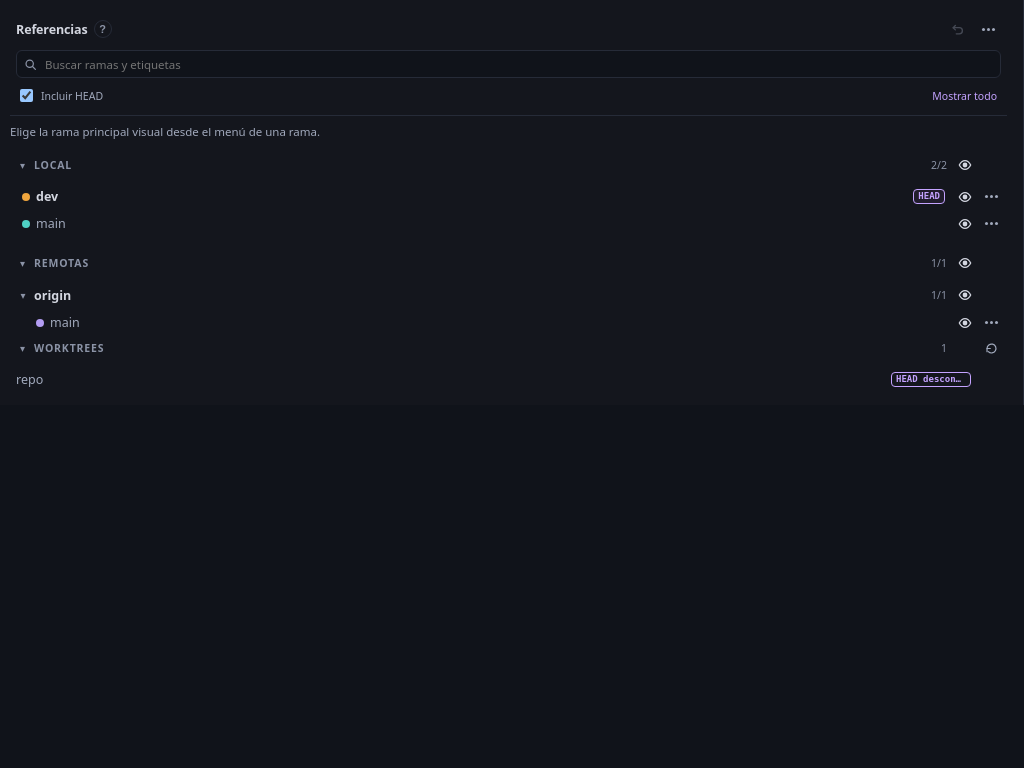
it: restores the action button's focus when the palette closes with Escape
Click the button named "Acciones de main" at (991, 224), box top-left (979, 212), bottom-right (1003, 236)
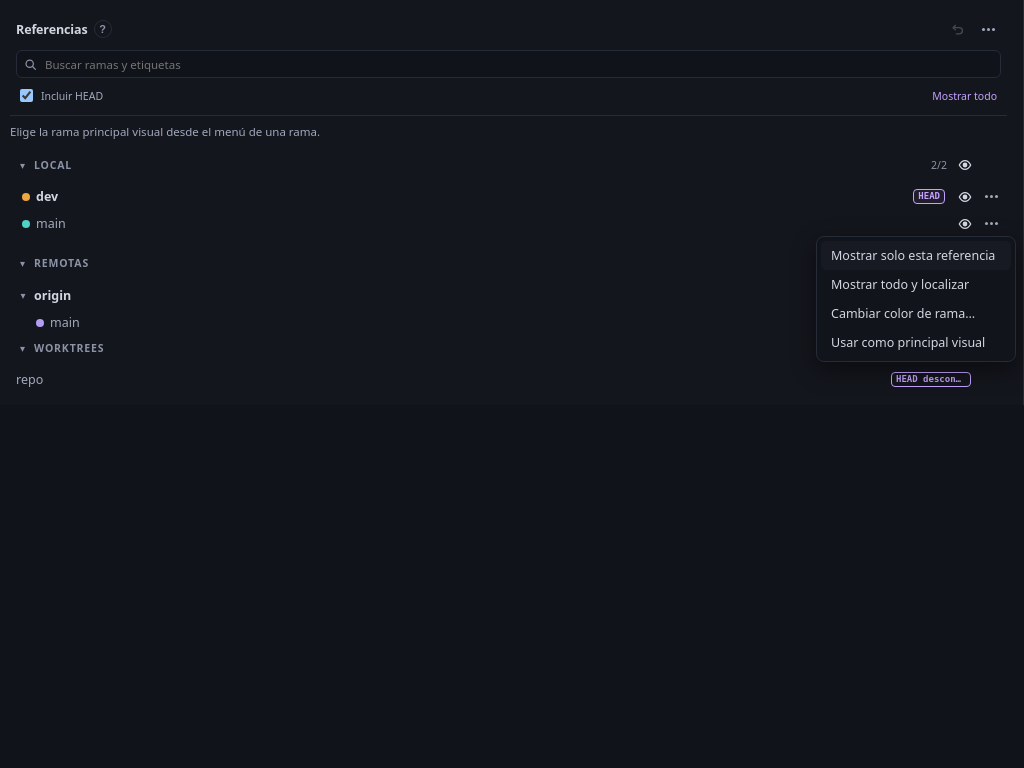
Click the menu item "Cambiar color de rama…" at (916, 313), box top-left (821, 298), bottom-right (1011, 328)
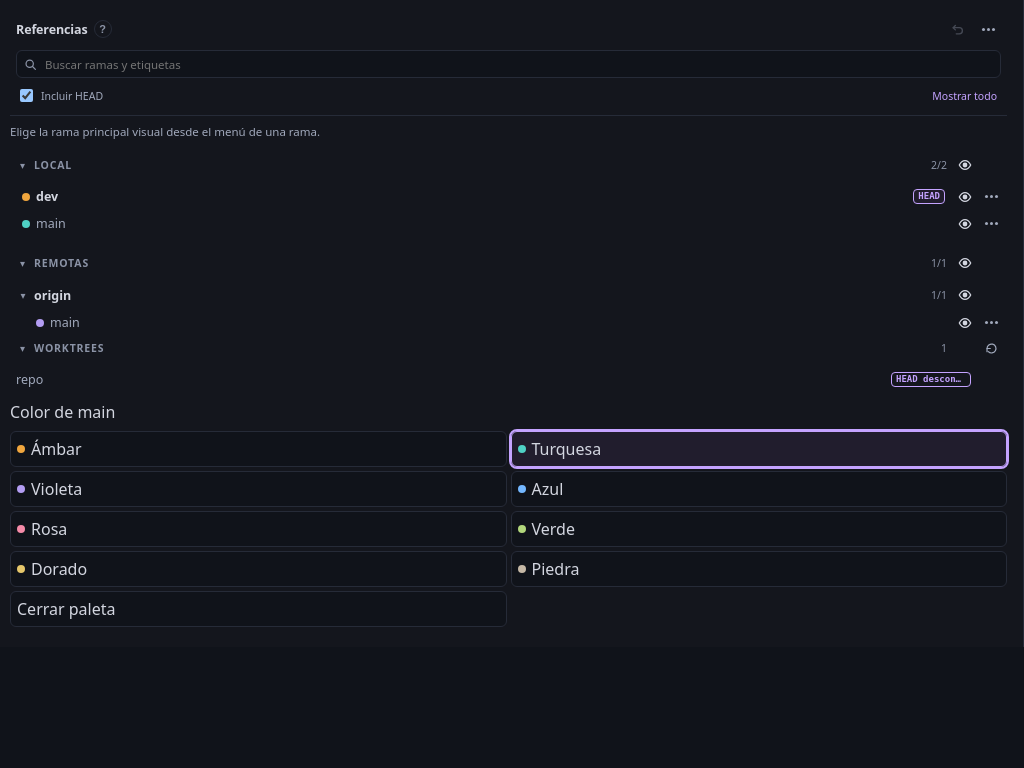
Press Escape
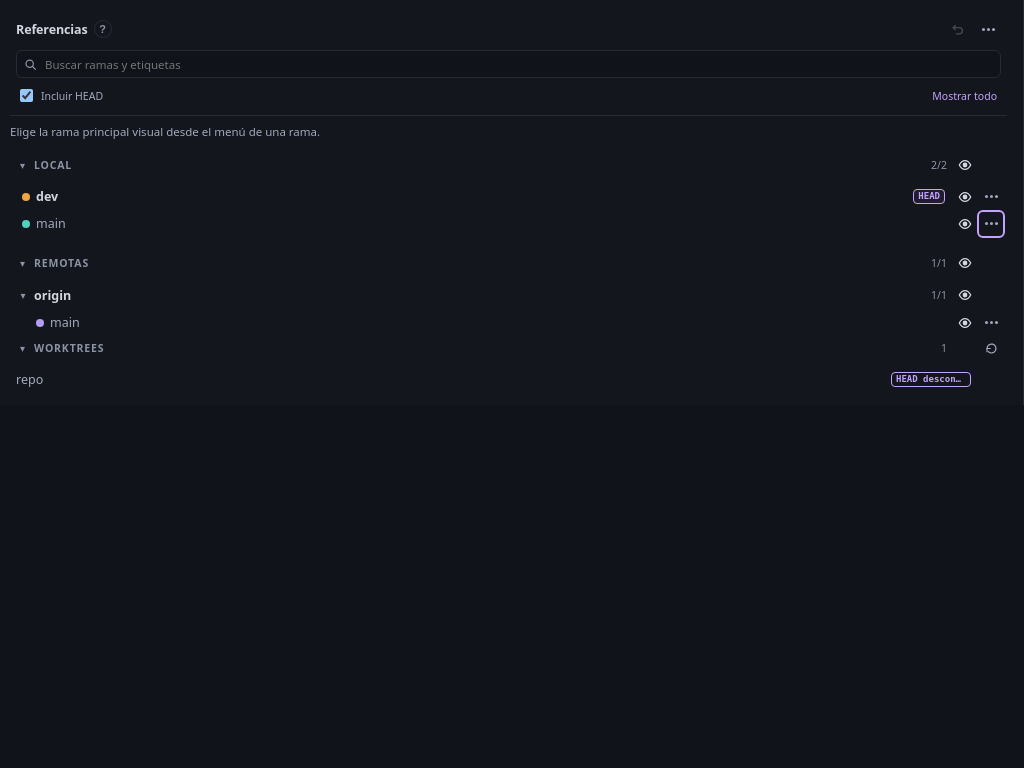
Check: the text "Color de main" is gone
